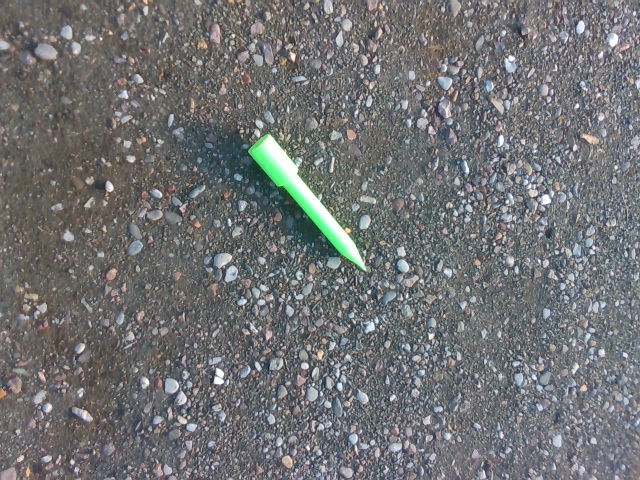Probe: (246, 134, 374, 279)
